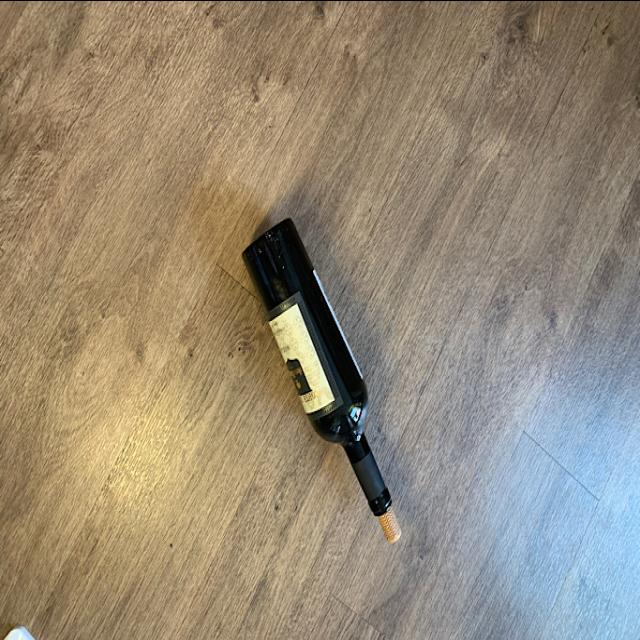Glass Bottle: (242, 213, 398, 515)
